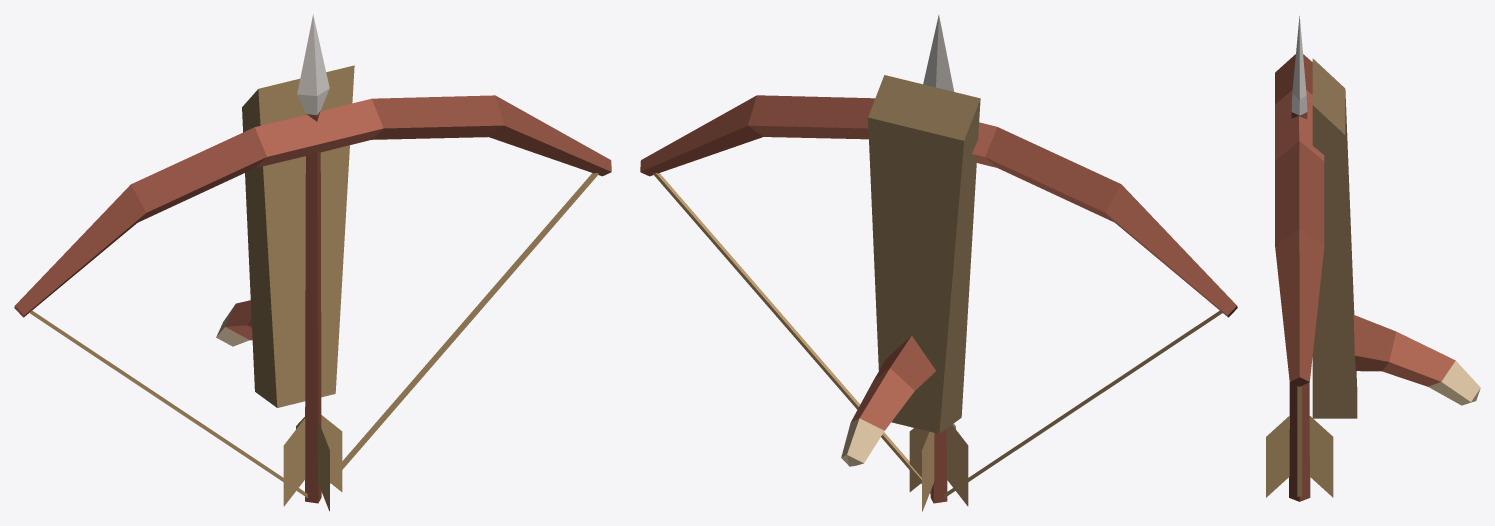
Rendered from bow_cross.glb.
3 renders of one model, left to right at view 1: azimuth 30°, elevation 25°; view 2: azimuth 150°, elevation 25°; view 3: azimuth 270°, elevation 25°, orthographic.
Visible parts, largest first — view 1: bow_cross.001; view 2: bow_cross.001; view 3: bow_cross.001.
Boxes of the visible parts, x1,y1,x2,y2 form: bow_cross.001: (14, 14, 611, 511); bow_cross.001: (640, 14, 1237, 511); bow_cross.001: (1266, 16, 1480, 501).
Size of the model in its own units: 1.28 by 1 by 0.4004.
1 material, 1 textured.
